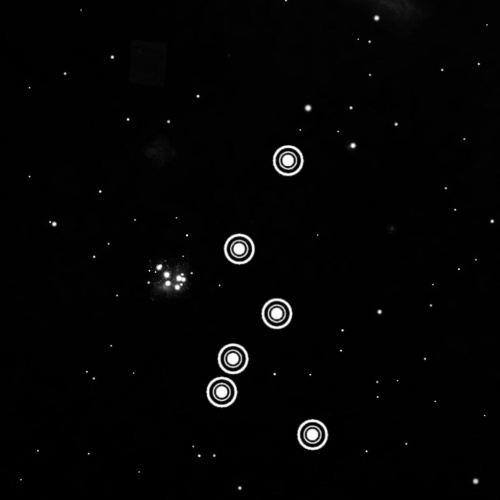cassiopeia: (198, 138, 333, 459)
